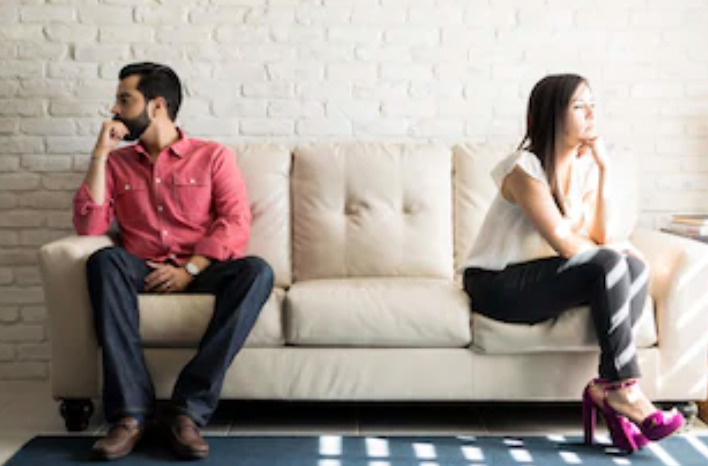Good: (72, 60, 684, 461)
